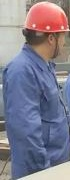boots: (0, 172, 11, 180)
hard-hat: (0, 32, 12, 50)
ppe-suit: (0, 43, 69, 179)
vest: (38, 59, 70, 157)
